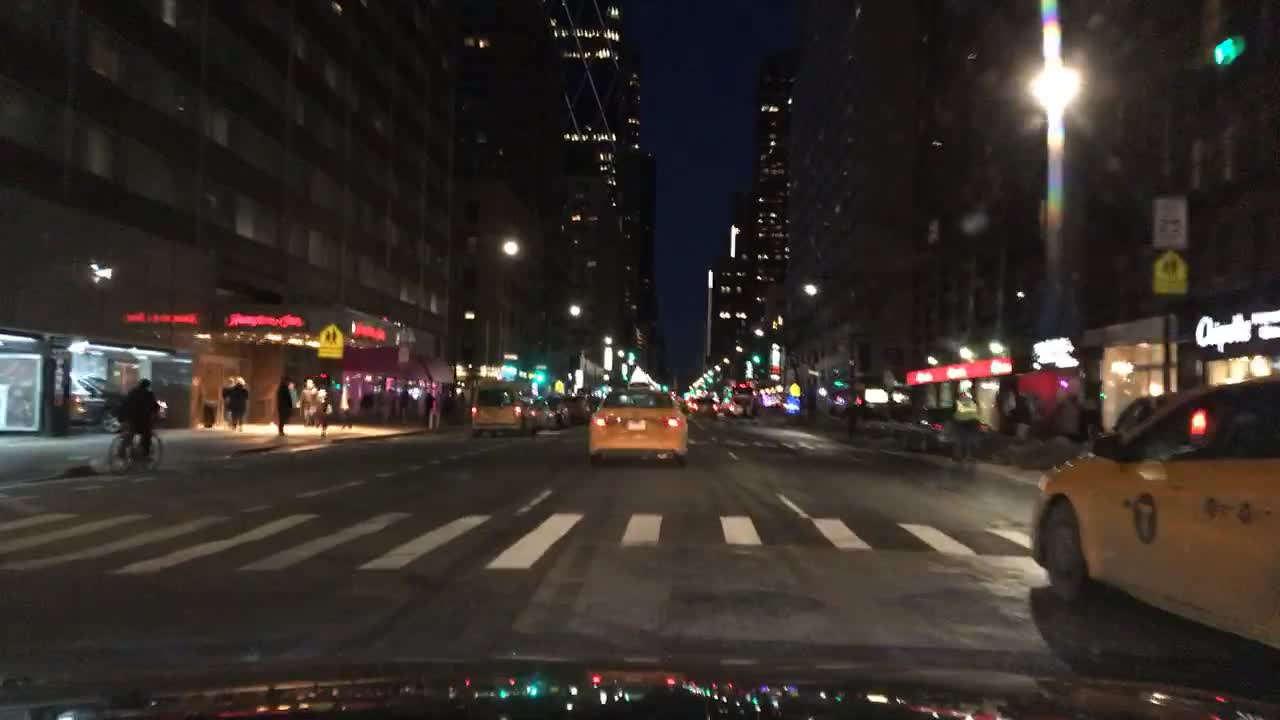bike: (109, 422, 163, 471), (946, 440, 979, 480)
car: (1031, 373, 1279, 654), (587, 364, 687, 470), (70, 377, 170, 431), (468, 379, 545, 436), (534, 390, 566, 429), (566, 392, 600, 423), (729, 392, 755, 416), (691, 395, 717, 419)
person: (224, 378, 248, 432), (272, 374, 293, 435), (314, 383, 332, 440), (298, 377, 317, 427), (841, 396, 858, 442), (396, 384, 408, 422), (423, 387, 433, 430)
rider: (110, 378, 161, 456), (945, 385, 983, 445)
traffic light: (749, 350, 760, 366), (628, 348, 637, 362)
traffic sign: (1152, 196, 1191, 247), (1152, 251, 1188, 296), (316, 323, 344, 357), (788, 384, 800, 396)
